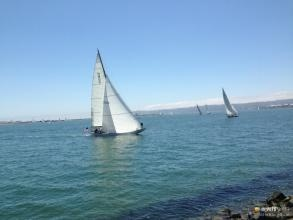fanchuan: (85, 48, 146, 139), (222, 84, 241, 120)
